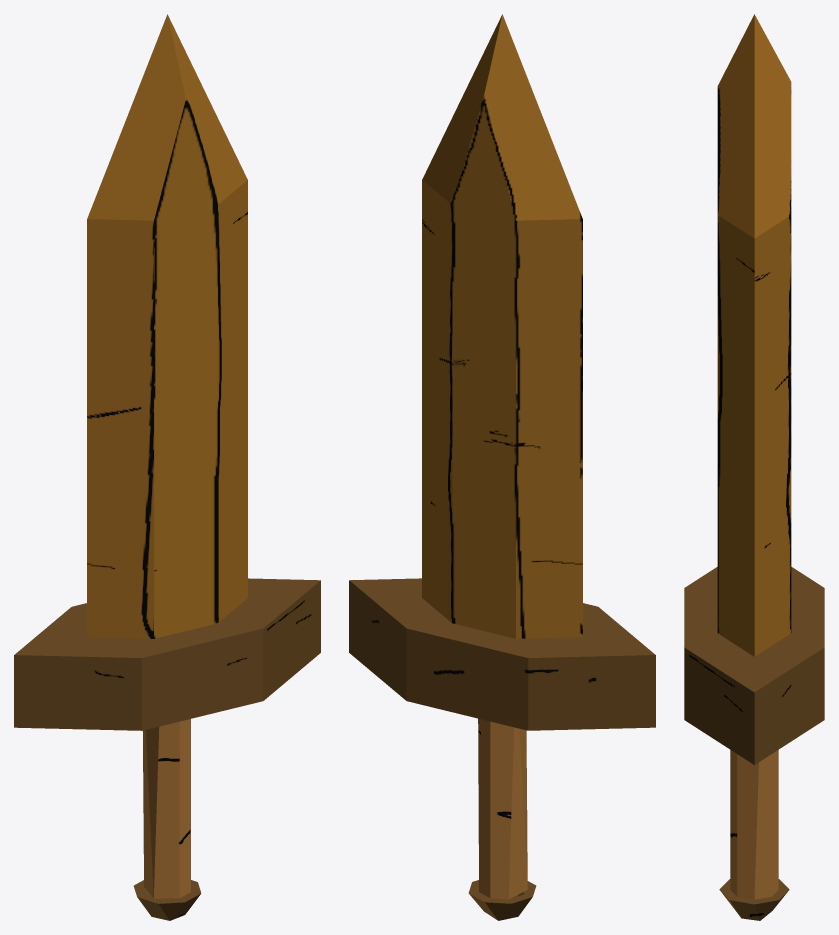
Rendered from sword_wooden.glb.
The picture shows the model from 3 angles, left to right: view 1: azimuth 30°, elevation 25°; view 2: azimuth 150°, elevation 25°; view 3: azimuth 270°, elevation 25°; orthographic projection.
Visible parts, largest first — view 1: Cube; view 2: Cube; view 3: Cube.
Boxes of the visible parts, x1,y1,x2,y2 form: Cube: (14,14,320,920); Cube: (349,14,655,920); Cube: (684,14,824,920).
Bounding box in the file's own units: 1.4 × 3.93 × 0.5564.
Materials: 1 (1 with a texture image).
